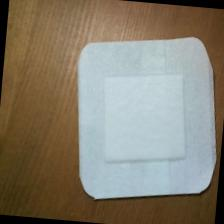Dressing: (65, 25, 224, 215)
